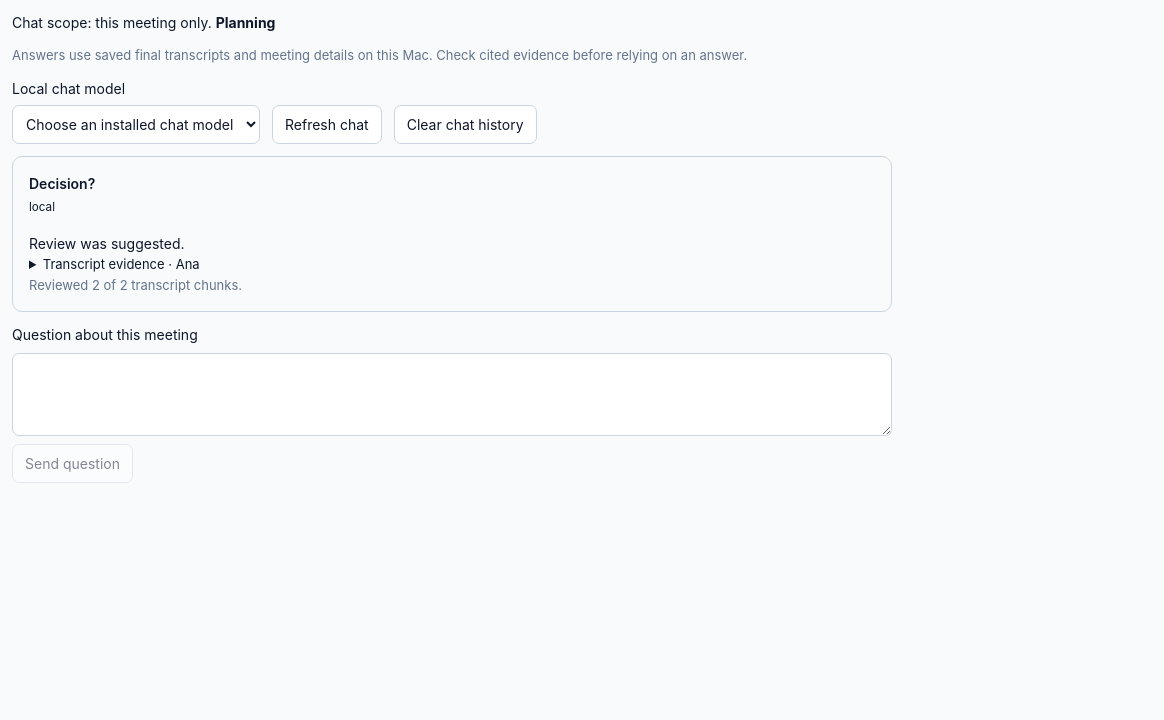
Test: a poll started during a save cannot overwrite the committed turn
The width and height of the screenshot is (1164, 720).
Select "local" in the dropdown labelled "Local chat model" at [136, 124], box [12,105,260,144]
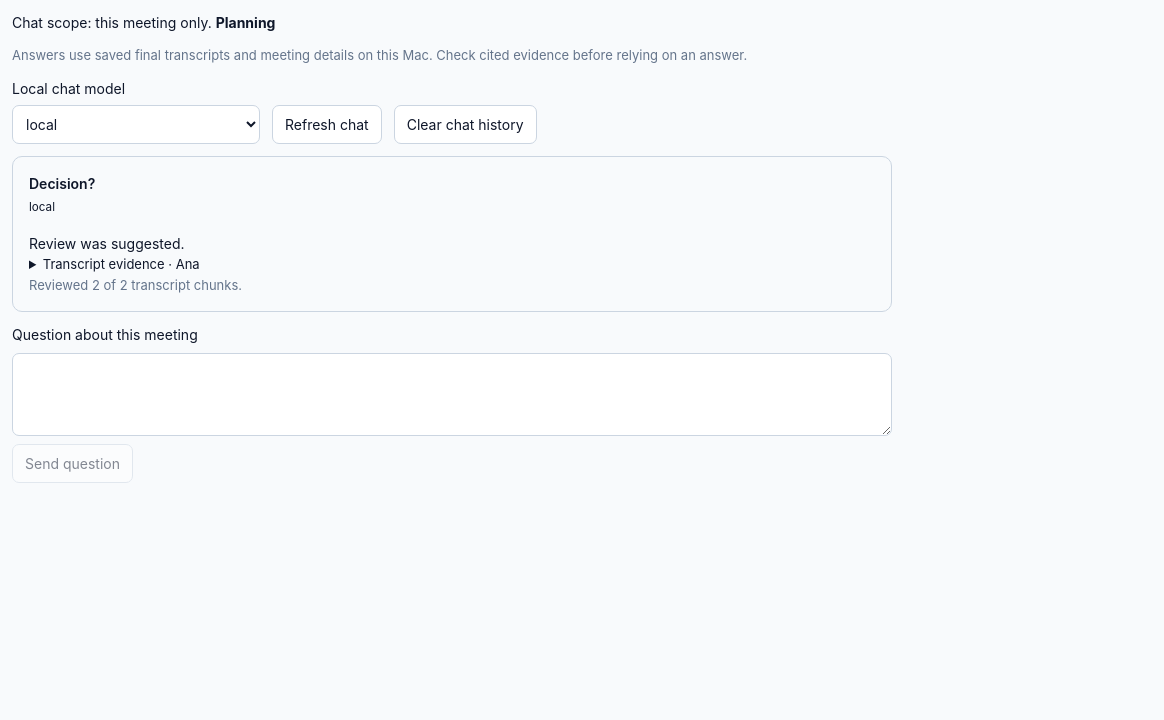
Type "New question?" into the text box labelled "Question about this meeting" at [452, 395], box [12,353,892,436]
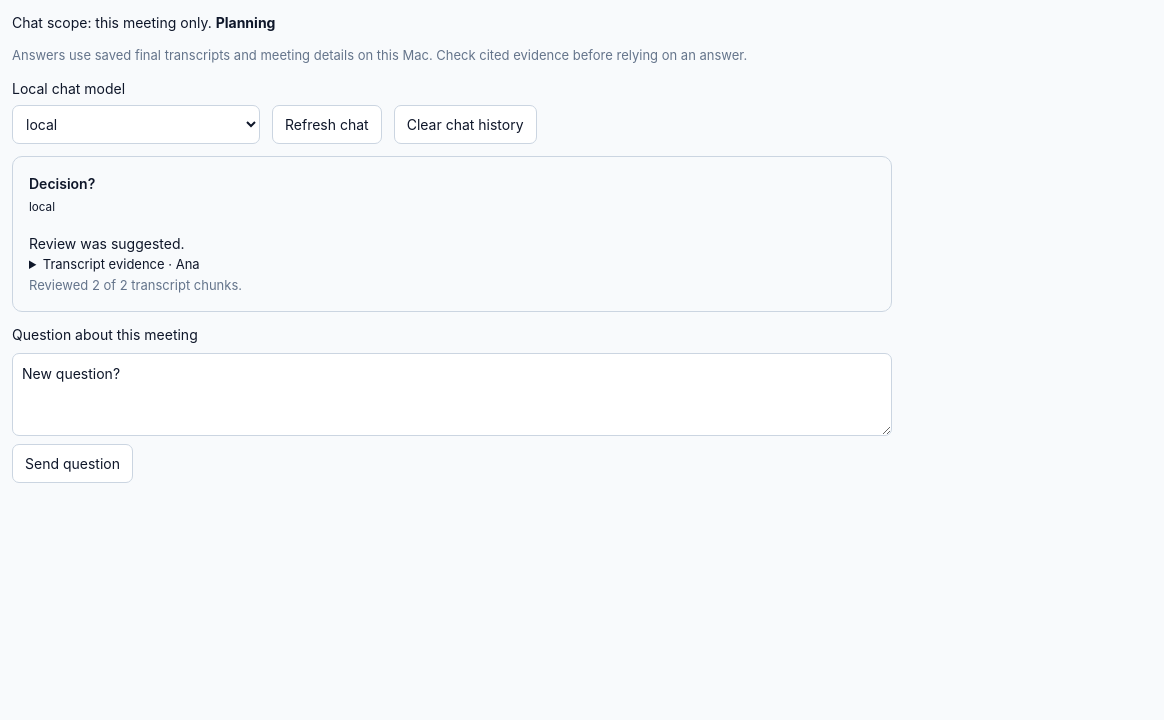
Click the button "Send question" at [72, 464], box [12,444,133,483]
Wait 2000 ms
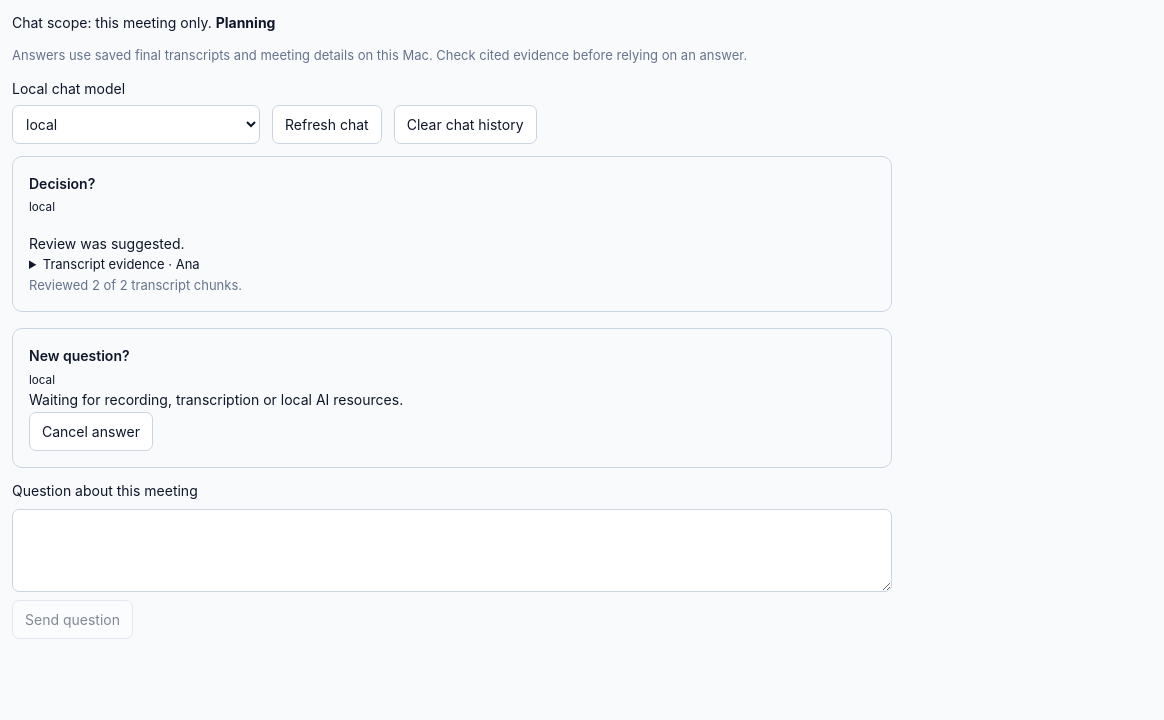
Expected: the text "New question?" is shown, [29,347,130,364]
